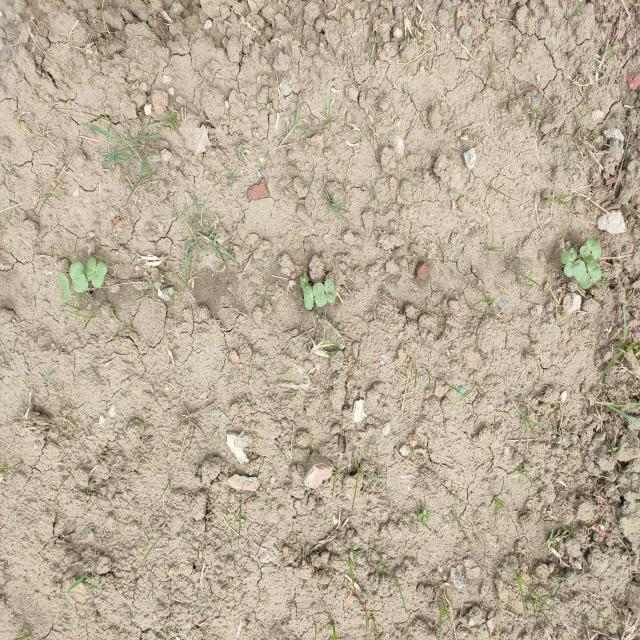seedling: (70, 262, 88, 292), (574, 263, 591, 288), (92, 262, 107, 289), (57, 272, 71, 300), (564, 260, 586, 277), (313, 282, 327, 307), (586, 238, 602, 259), (587, 260, 601, 281), (324, 279, 335, 303), (561, 248, 577, 264), (303, 286, 313, 310), (580, 246, 594, 262), (86, 257, 95, 280)
